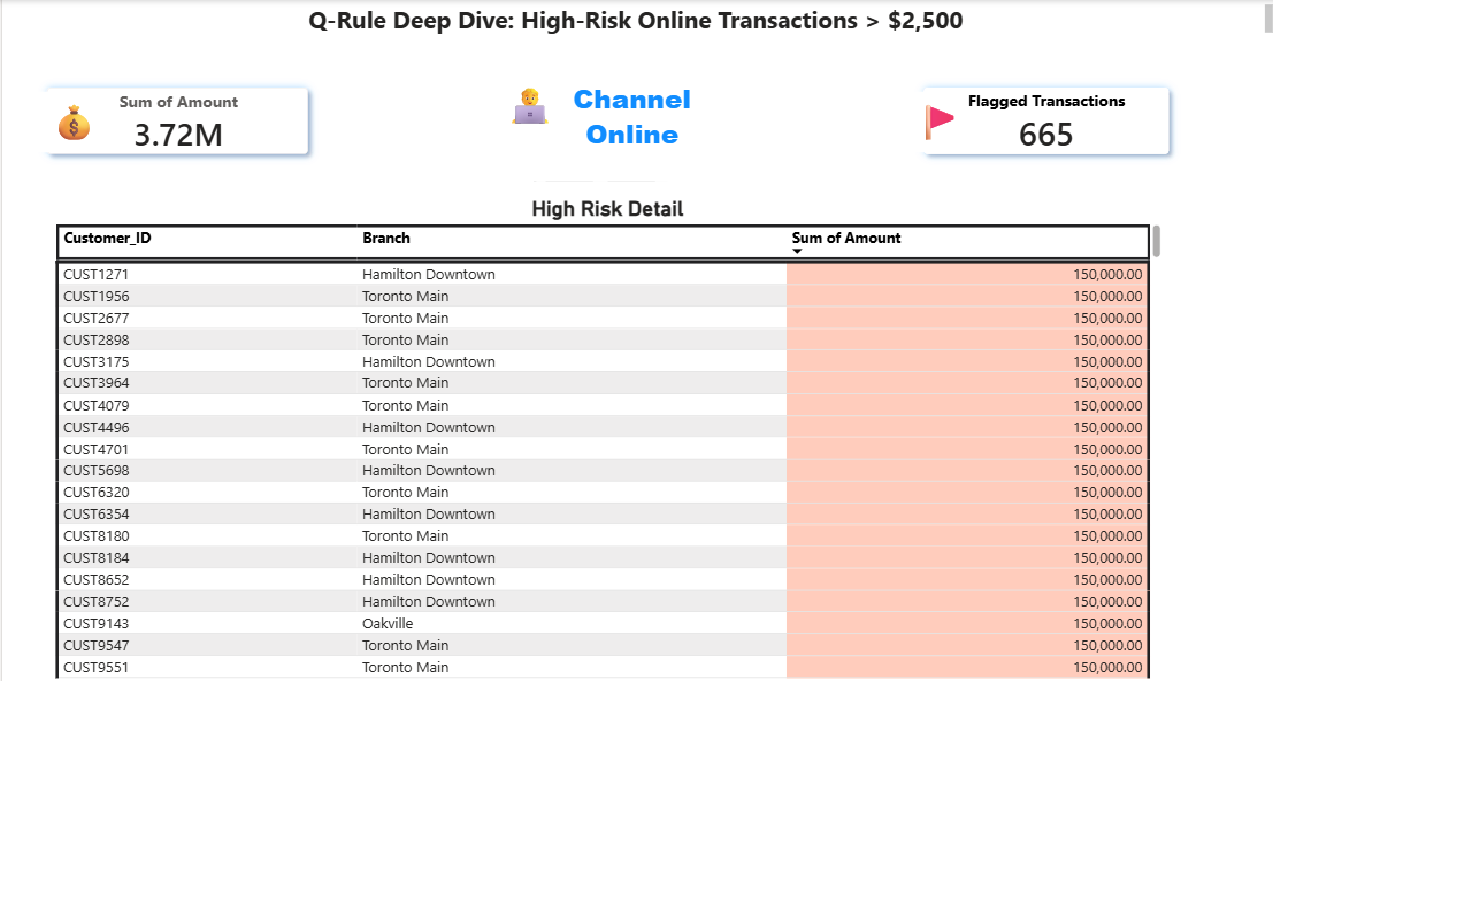

Layout of this report page (visuals, bound fields, positions):
{"tool":"powerbi","page":{"name":"High Risk Detail","canvas":[1280,720],"ordinal":1},"visuals":[{"type":"tableEx","title":"High Risk Detail","fields":{"Values":["risk_view.Customer_ID","risk_view.Branch","Sum(risk_view.Amount)"]},"box":[48,208,1120,512],"z":0},{"type":"textbox","box":[0,0,1280,48],"z":1000},{"type":"cardVisual","fields":{"Data":["Sum(risk_view.Amount)"]},"box":[16,64,320,128],"z":2000},{"type":"cardVisual","fields":{"Data":["CountNonNull(risk_view.Customer_ID)"]},"box":[896,64,304,128],"z":3000},{"type":"cardVisual","box":[480,80,240,112],"z":4000},{"type":"textbox","box":[32,96,80,64],"z":5000},{"type":"textbox","box":[512,80,240,112],"z":6000},{"type":"textbox","box":[480,80,80,80],"z":7000},{"type":"textbox","box":[912,96,48,64],"z":7001}]}

Visuals, with their boxes on the page's 1280x720 design canvas (x1, y1, x2, y2). These are canvas units, not pixel positions in the 1481x914 screenshot, which may show the page scaled, cropped or inside an application window:
"High Risk Detail" tableEx: pyautogui.locateOnScreen(48, 208, 1168, 720)
textbox: pyautogui.locateOnScreen(0, 0, 1280, 48)
cardVisual - Sum(risk_view.Amount): pyautogui.locateOnScreen(16, 64, 336, 192)
cardVisual - CountNonNull(risk_view.Customer_ID): pyautogui.locateOnScreen(896, 64, 1200, 192)
cardVisual: pyautogui.locateOnScreen(480, 80, 720, 192)
textbox: pyautogui.locateOnScreen(32, 96, 112, 160)
textbox: pyautogui.locateOnScreen(512, 80, 752, 192)
textbox: pyautogui.locateOnScreen(480, 80, 560, 160)
textbox: pyautogui.locateOnScreen(912, 96, 960, 160)
